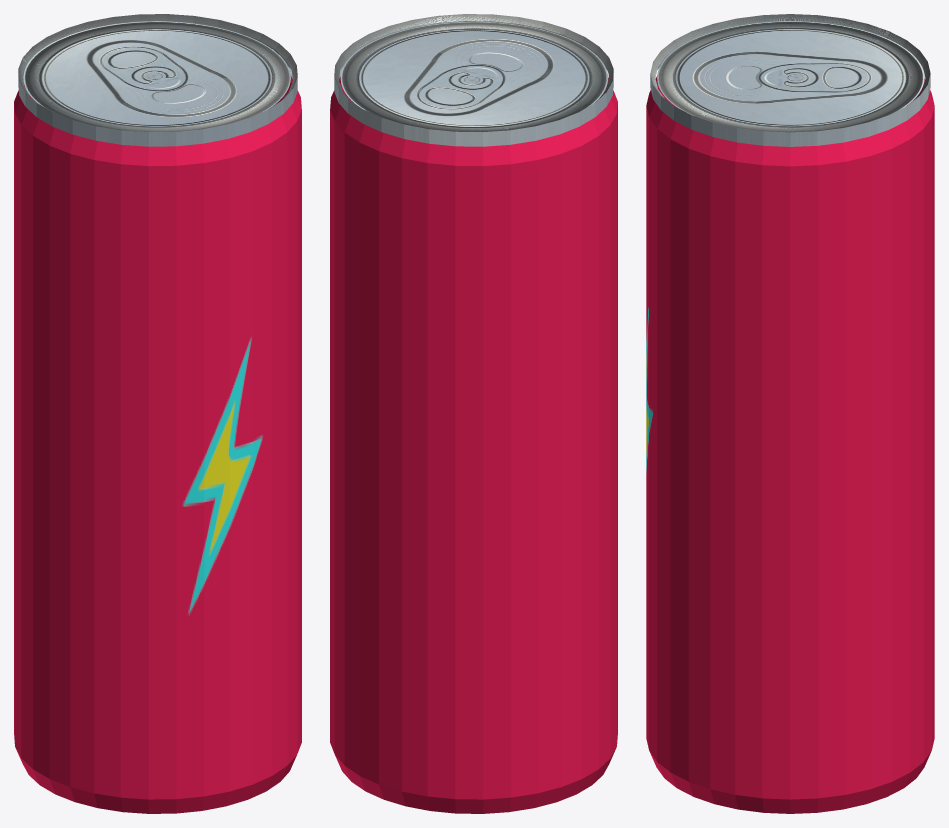
Rendered from ENERGY_DRINK.obj.
3 renders of one model, left to right at view 1: azimuth 30°, elevation 25°; view 2: azimuth 150°, elevation 25°; view 3: azimuth 270°, elevation 25°, orthographic.
Parts seen in each view (by area): view 1: Cylinder; view 2: Cylinder; view 3: Cylinder.
Boxes of the visible parts, box(x1,y1,x2,y2) form: Cylinder: box(14, 14, 301, 813); Cylinder: box(330, 14, 617, 813); Cylinder: box(646, 14, 934, 813).
Bounding box in the file's own units: 0.1041 × 0.2723 × 0.1041.
